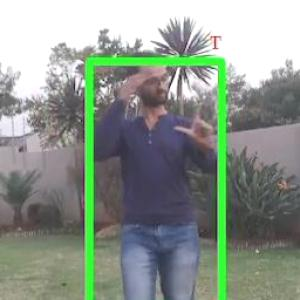land_hand: (169, 88, 219, 152)
